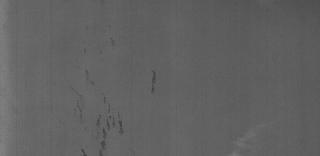water spot: (95, 101, 125, 143), (69, 82, 89, 118), (146, 65, 164, 97), (92, 138, 108, 156)
